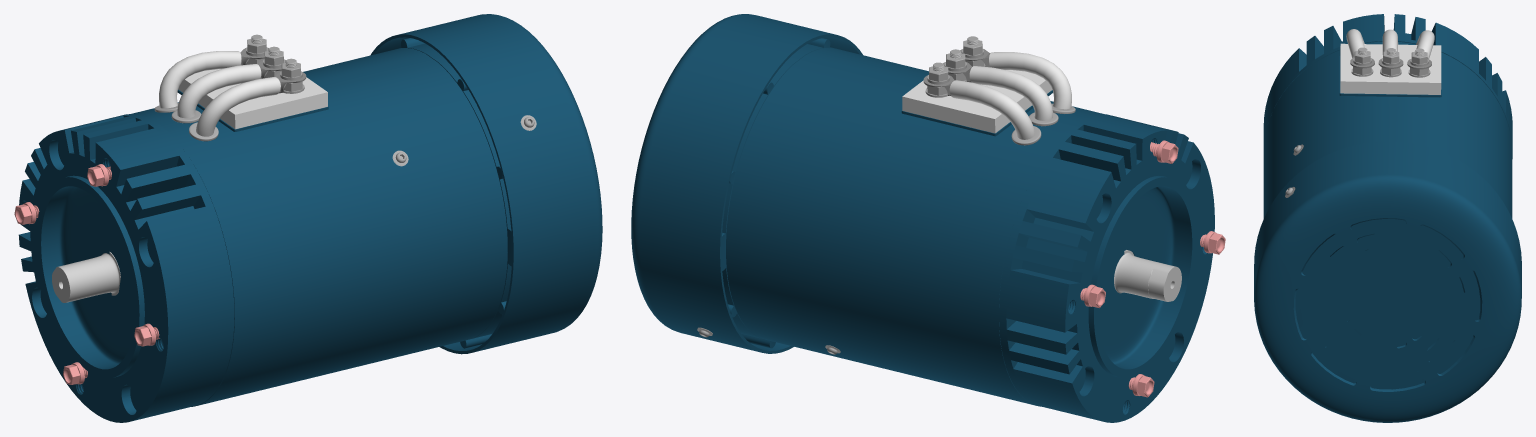
The model's file is 3_phase_Motor_final.fbx.
The picture shows the model from 3 angles, left to right: view 1: azimuth 30°, elevation 25°; view 2: azimuth 150°, elevation 25°; view 3: azimuth 270°, elevation 25°; orthographic projection. The views are drawn at different scales.
Parts seen in each view (by area): view 1: Cylinder, Cylinder.001, Cylinder.002, Cube, Cylinder.003, BezierCurve.002, BezierCurve.001, BezierCurve, bullone triangolo ammo (1) (2) (1).002; view 2: Cylinder, Cylinder.001, Cylinder.002, Cube, Cylinder.003, BezierCurve.001, BezierCurve.002, BezierCurve, bullone triangolo ammo (1) (2) (1).001; view 3: Cylinder.002, Cylinder, Cylinder.001, Cube, bullone triangolo ammo (1) (2) (1).002, bullone triangolo ammo (1) (2) (1).001, bullone triangolo ammo (1) (2) (1).003, BezierCurve.001, BezierCurve.002, BezierCurve.
Boxes of the visible parts, x1,y1,x2,y2 form: Cylinder: [131, 38, 511, 406]; Cylinder.001: [18, 114, 234, 422]; Cylinder.002: [370, 14, 602, 354]; Cube: [178, 69, 327, 129]; Cylinder.003: [52, 252, 120, 302]; BezierCurve.002: [159, 51, 241, 108]; BezierCurve.001: [196, 77, 280, 136]; BezierCurve: [177, 64, 261, 118]; bullone triangolo ammo (1) (2) (1).002: [280, 58, 304, 93]; Cylinder: [721, 38, 1104, 406]; Cylinder.001: [999, 114, 1214, 422]; Cylinder.002: [631, 14, 862, 353]; Cube: [902, 70, 1052, 133]; Cylinder.003: [1114, 250, 1181, 301]; BezierCurve.001: [989, 52, 1071, 109]; BezierCurve.002: [949, 80, 1034, 139]; BezierCurve: [969, 66, 1052, 120]; bullone triangolo ammo (1) (2) (1).001: [925, 62, 949, 97]; Cylinder.002: [1254, 141, 1521, 422]; Cylinder: [1263, 41, 1512, 389]; Cylinder.001: [1263, 14, 1512, 158]; Cube: [1340, 43, 1441, 94]; bullone triangolo ammo (1) (2) (1).002: [1351, 47, 1373, 76]; bullone triangolo ammo (1) (2) (1).001: [1408, 48, 1430, 77]; bullone triangolo ammo (1) (2) (1).003: [1380, 48, 1401, 77]; BezierCurve.001: [1346, 29, 1364, 58]; BezierCurve.002: [1416, 30, 1434, 58]; BezierCurve: [1382, 29, 1398, 55].
Size of the model in its own units: 61.05 by 41.08 by 36.18.
